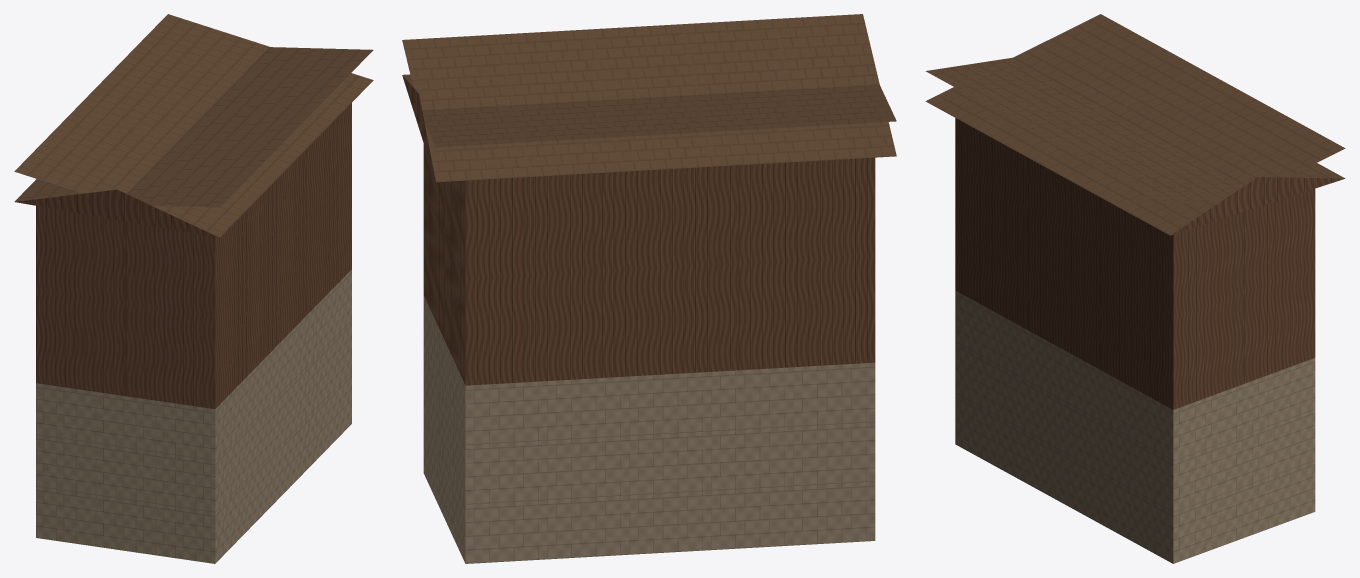
File: bld_c22_30_386.gltf
3 renders of one model, left to right at view 1: azimuth 30°, elevation 25°; view 2: azimuth 150°, elevation 25°; view 3: azimuth 270°, elevation 25°, orthographic. The views are drawn at different scales.
Visible parts, largest first — view 1: bld_c22_30_386; view 2: bld_c22_30_386; view 3: bld_c22_30_386.
Boxes of the visible parts, left/top/right/bottom form: bld_c22_30_386: left=14, top=14, right=373, bottom=563; bld_c22_30_386: left=402, top=14, right=896, bottom=563; bld_c22_30_386: left=925, top=14, right=1345, bottom=563.
Size of the model in its own units: 13.61 by 12.2 by 12.62.
Materials: 4 (4 with a texture image).
